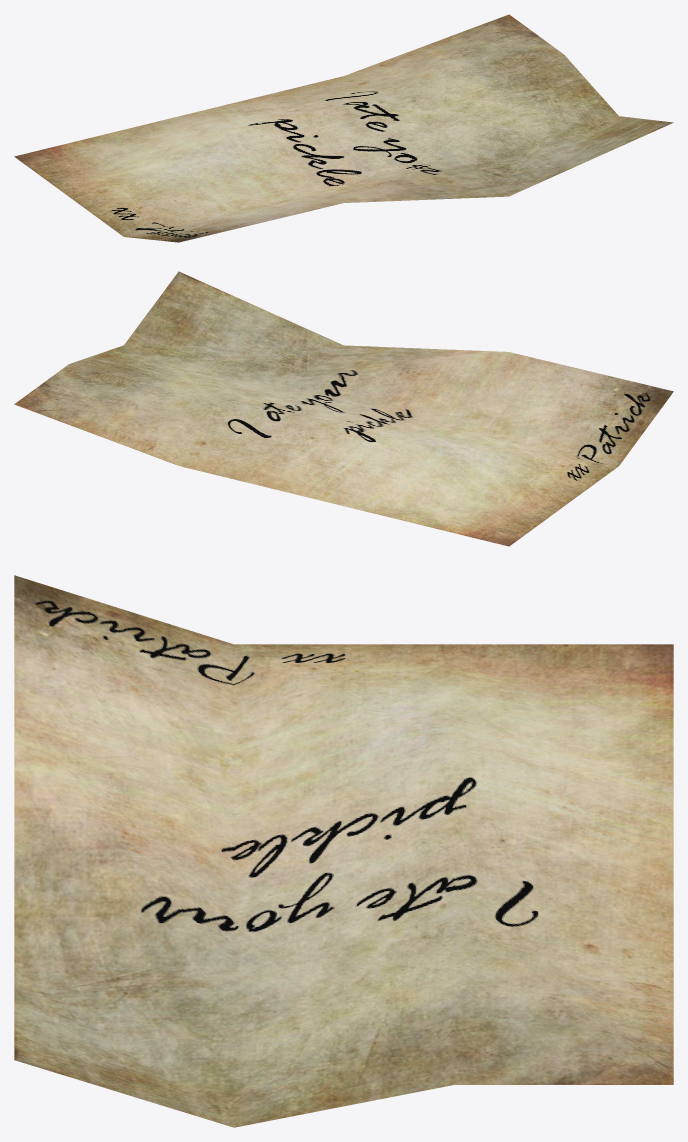
Rendered from note.fbx.
3 renders of one model, top to bottom at view 1: azimuth 30°, elevation 25°; view 2: azimuth 150°, elevation 25°; view 3: azimuth 270°, elevation 25°, orthographic. The views are drawn at different scales.
Parts seen in each view (by area): view 1: pPlane1; view 2: pPlane1; view 3: pPlane1.
Part boxes in pixels (box(x1,y1,x2,y2)): pPlane1: box(14, 14, 673, 242); pPlane1: box(14, 271, 673, 546); pPlane1: box(14, 575, 673, 1127).
Bounding box in the file's own units: 0.1814 × 0.0121 × 0.1045.
